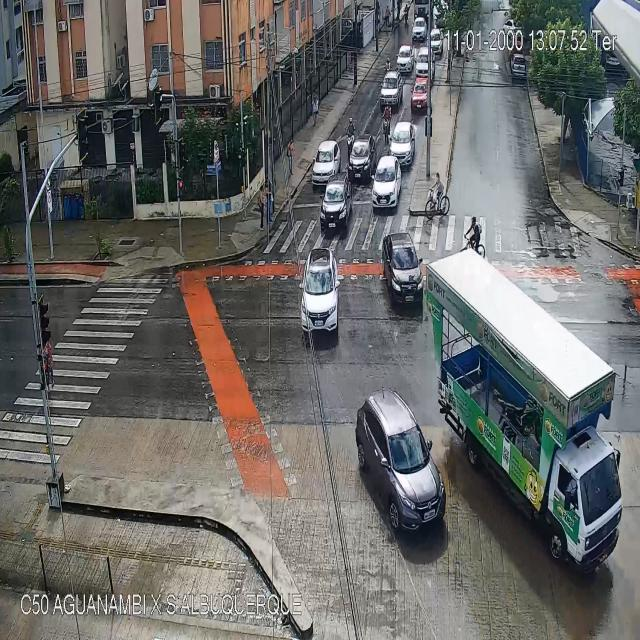Car: (354, 386, 444, 534), (299, 249, 345, 336), (382, 233, 423, 309), (316, 172, 352, 233), (373, 152, 402, 212), (350, 138, 376, 185), (389, 121, 416, 164), (314, 142, 340, 184), (381, 73, 403, 110), (410, 79, 430, 112), (502, 13, 525, 39), (414, 46, 432, 78), (412, 17, 427, 46), (397, 43, 411, 72), (429, 28, 443, 57), (512, 52, 526, 78)
Motorcycle: (383, 101, 393, 146), (346, 116, 354, 160), (404, 3, 411, 26), (386, 52, 392, 75)
Truck: (427, 248, 623, 572)
